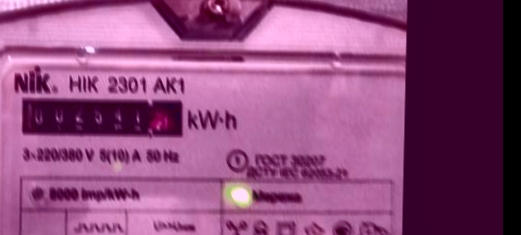0: (33, 101, 46, 123), (54, 100, 66, 121)
1: (133, 103, 144, 123)
2: (74, 101, 86, 122)
4: (114, 101, 126, 122)
5: (93, 101, 105, 123)
6: (155, 115, 166, 130)
screen: (13, 86, 196, 144)
